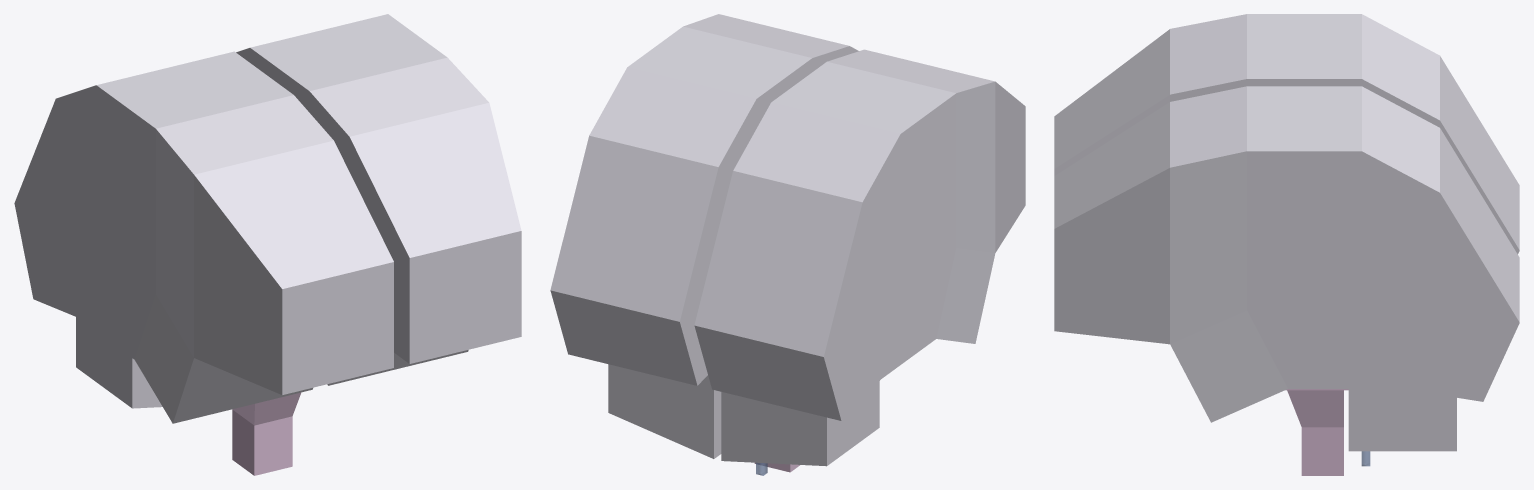
File: brain-schematic.glb
3 renders of one model, left to right at view 1: azimuth 30°, elevation 25°; view 2: azimuth 150°, elevation 25°; view 3: azimuth 270°, elevation 25°, orthographic. The views are drawn at different scales.
Parts seen in each view (by area): view 1: Frontal Lobe - Grey, Parietal Lobe, Temporal Lobe, Occipital Lobe, Medulla, Cerebellum; view 2: Occipital Lobe, Parietal Lobe, Frontal Lobe - Grey, Cerebellum, Temporal Lobe; view 3: Frontal Lobe - Grey, Parietal Lobe, Occipital Lobe, Temporal Lobe, Cerebellum, Medulla.
Boxes of the visible parts, x1,y1,x2,y2 form: Frontal Lobe - Grey: (156, 57, 521, 395); Parietal Lobe: (56, 14, 447, 293); Temporal Lobe: (76, 201, 468, 423); Occipital Lobe: (14, 99, 96, 316); Medulla: (232, 392, 300, 475); Cerebellum: (76, 317, 162, 408); Occipital Lobe: (550, 135, 901, 420); Parietal Lobe: (589, 26, 956, 247); Frontal Lobe - Grey: (683, 14, 1025, 252); Cerebellum: (608, 364, 879, 466); Temporal Lobe: (881, 241, 995, 378); Frontal Lobe - Grey: (1054, 14, 1246, 344); Parietal Lobe: (1247, 14, 1439, 310); Occipital Lobe: (1360, 56, 1519, 401); Temporal Lobe: (1170, 262, 1400, 422); Cerebellum: (1348, 389, 1456, 451); Medulla: (1287, 390, 1343, 475).
Bounding box in the file's own units: 4.85 × 6.27 × 6.88.
